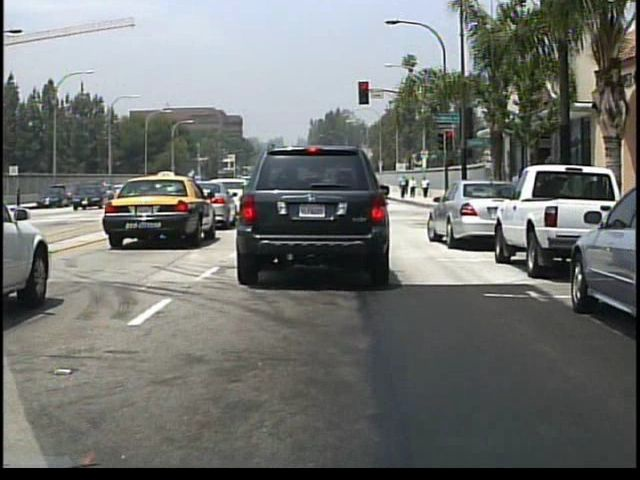person: (421, 175, 431, 200), (398, 175, 408, 199), (409, 175, 418, 200)
